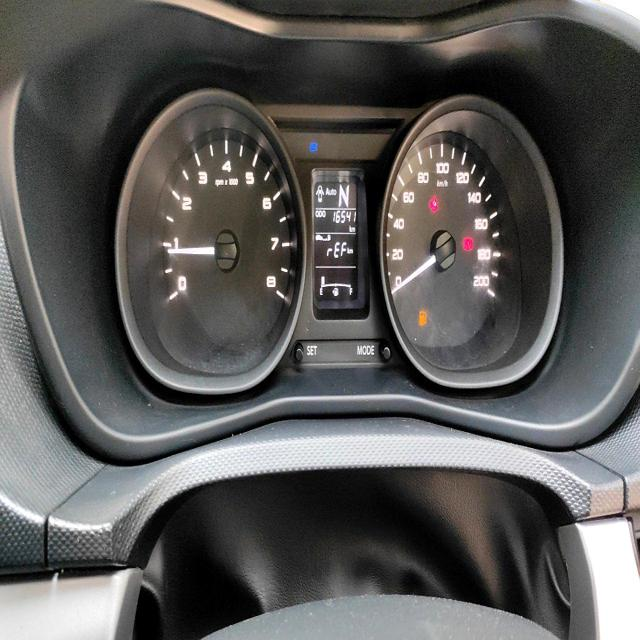odometer: (331, 208, 357, 224)
